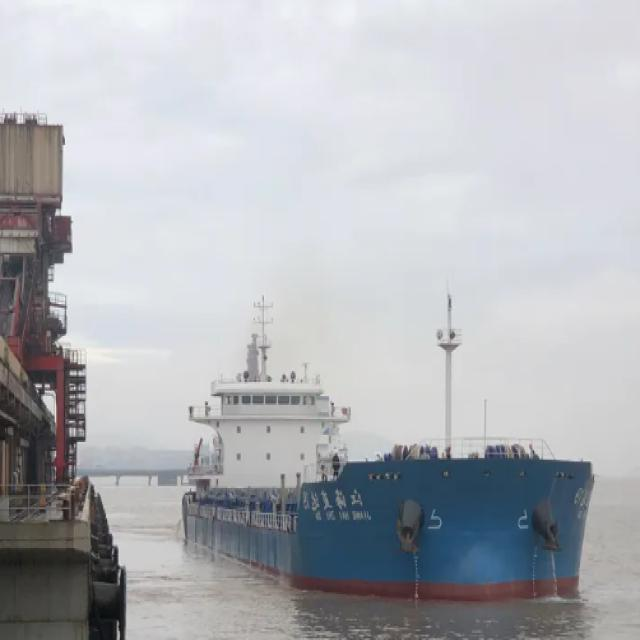cargoship: (158, 238, 604, 606)
